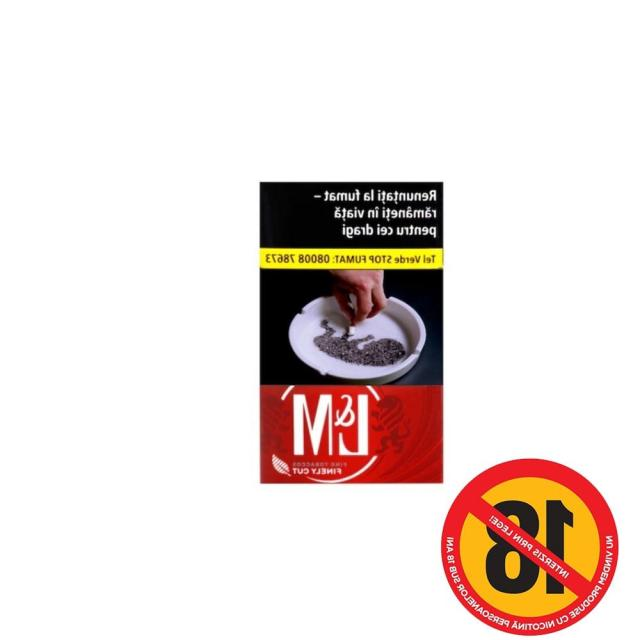lm: (249, 171, 459, 488)
